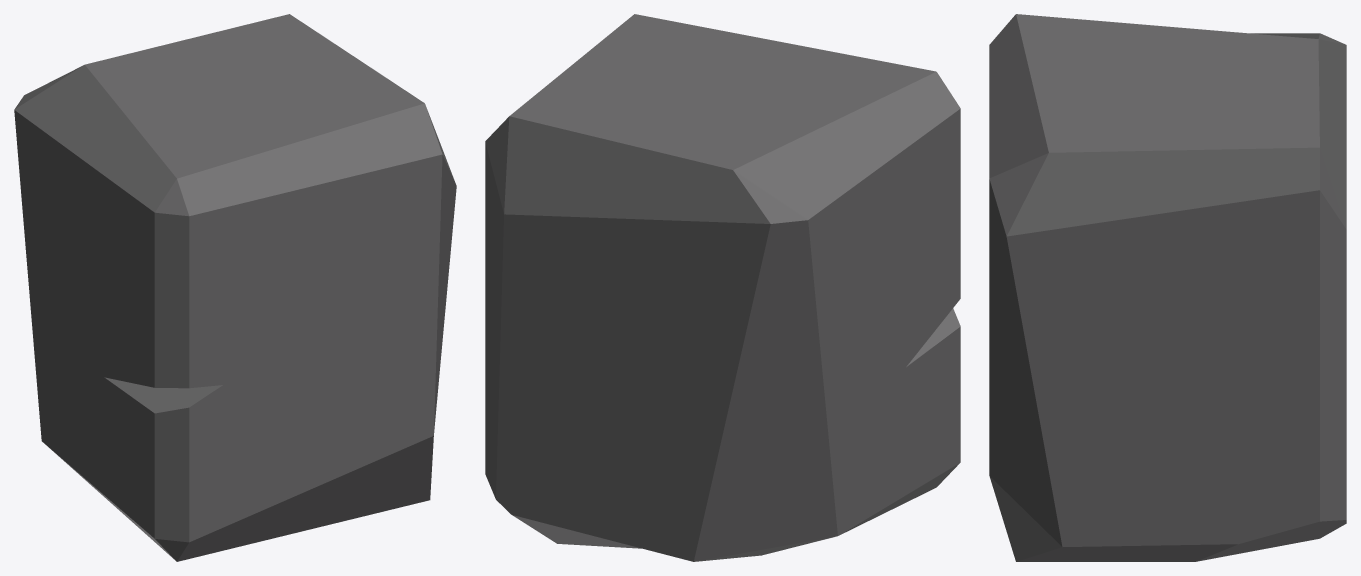
Rendered from HalfBrick.gltf.
3 renders of one model, left to right at view 1: azimuth 30°, elevation 25°; view 2: azimuth 150°, elevation 25°; view 3: azimuth 270°, elevation 25°, orthographic. The views are drawn at different scales.
Visible parts, largest first — view 1: HalfBrick; view 2: HalfBrick; view 3: HalfBrick.
Boxes of the visible parts, bbox=[...] form: HalfBrick: bbox=[14, 14, 456, 561]; HalfBrick: bbox=[485, 14, 960, 561]; HalfBrick: bbox=[989, 14, 1346, 561].
Size of the model in its own units: 0.26 by 0.32 by 0.25.
Materials: 1 (1 with a texture image).
